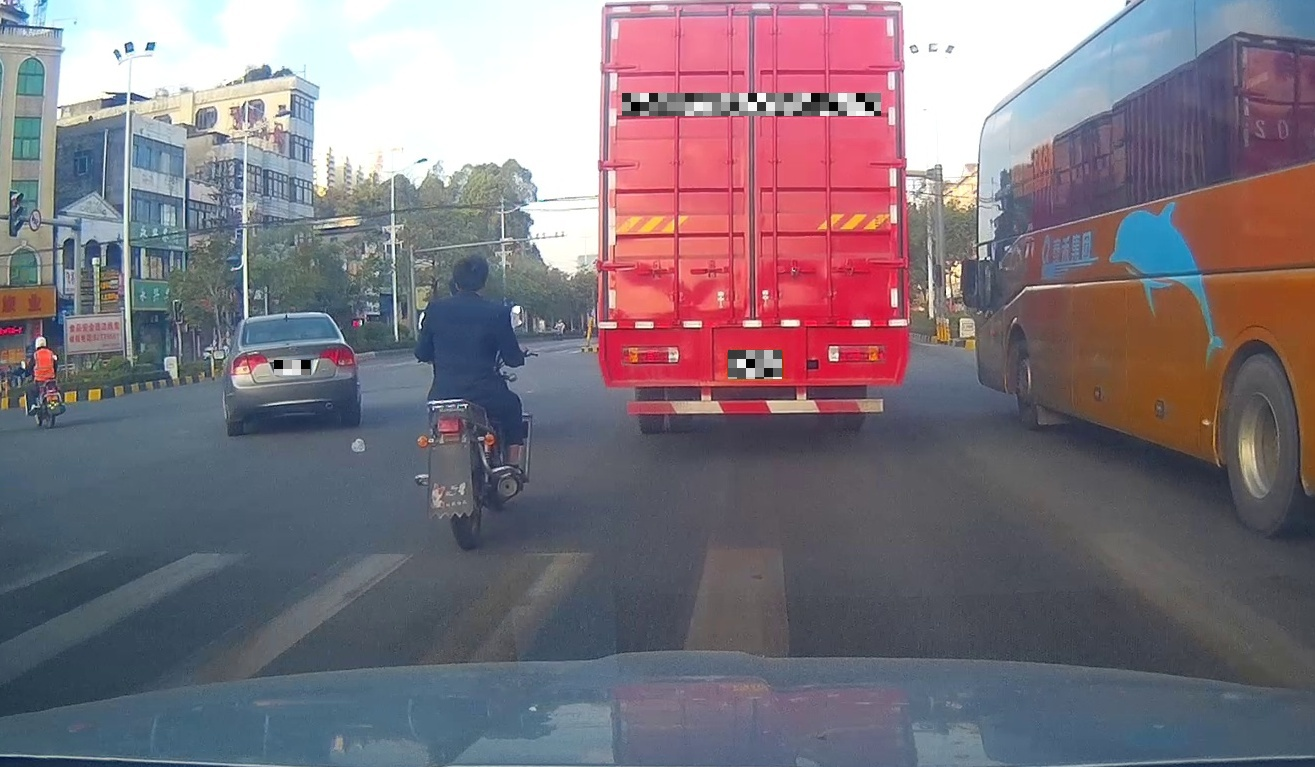L_light: (621, 346, 680, 363), (230, 353, 269, 375)
R_light: (828, 345, 885, 362), (319, 346, 355, 366)
T_light: (732, 15, 773, 26), (280, 318, 296, 323)
day-left: (224, 312, 361, 437)
day-no: (597, 1, 911, 433)
plate_1: (274, 360, 311, 375)
plate_2: (622, 93, 881, 116)
plate_3: (728, 350, 782, 379)
